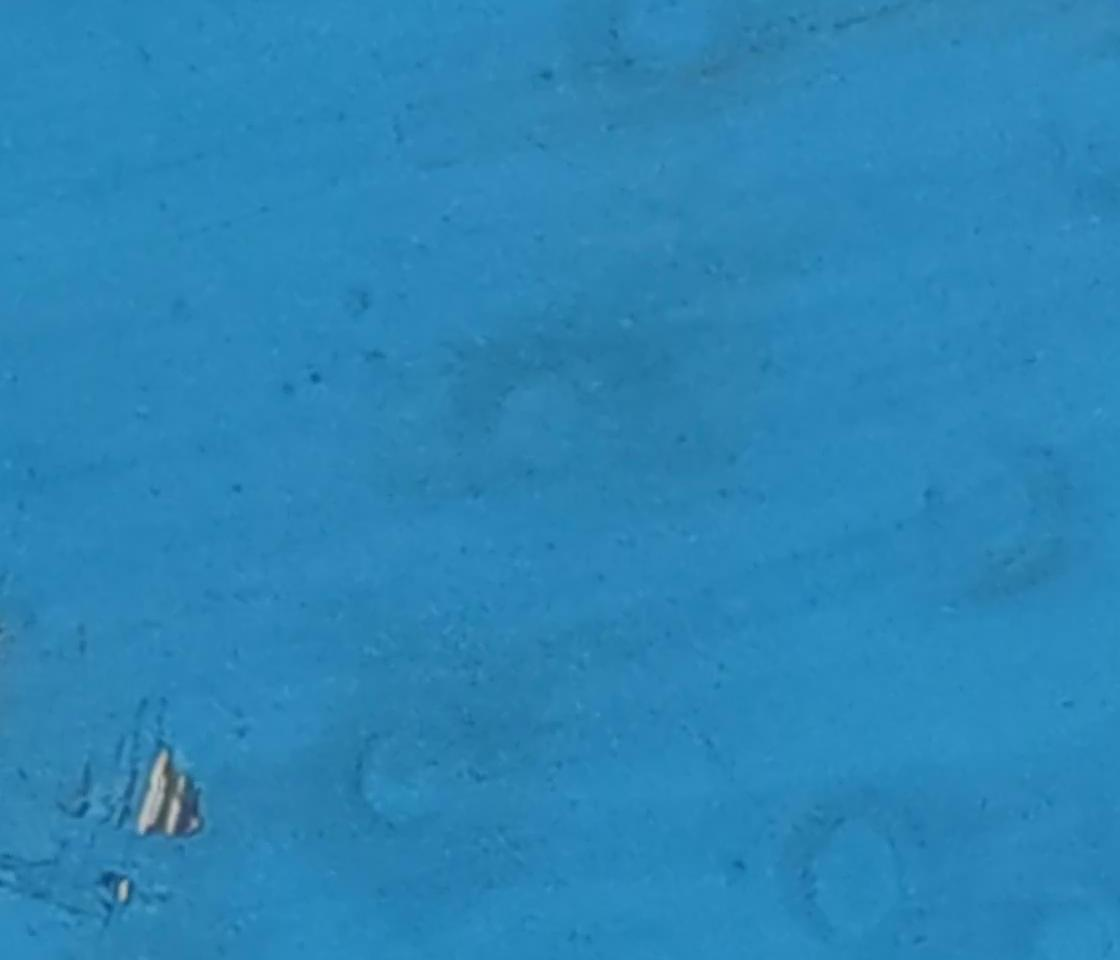paint_peel: (117, 743, 220, 846)
